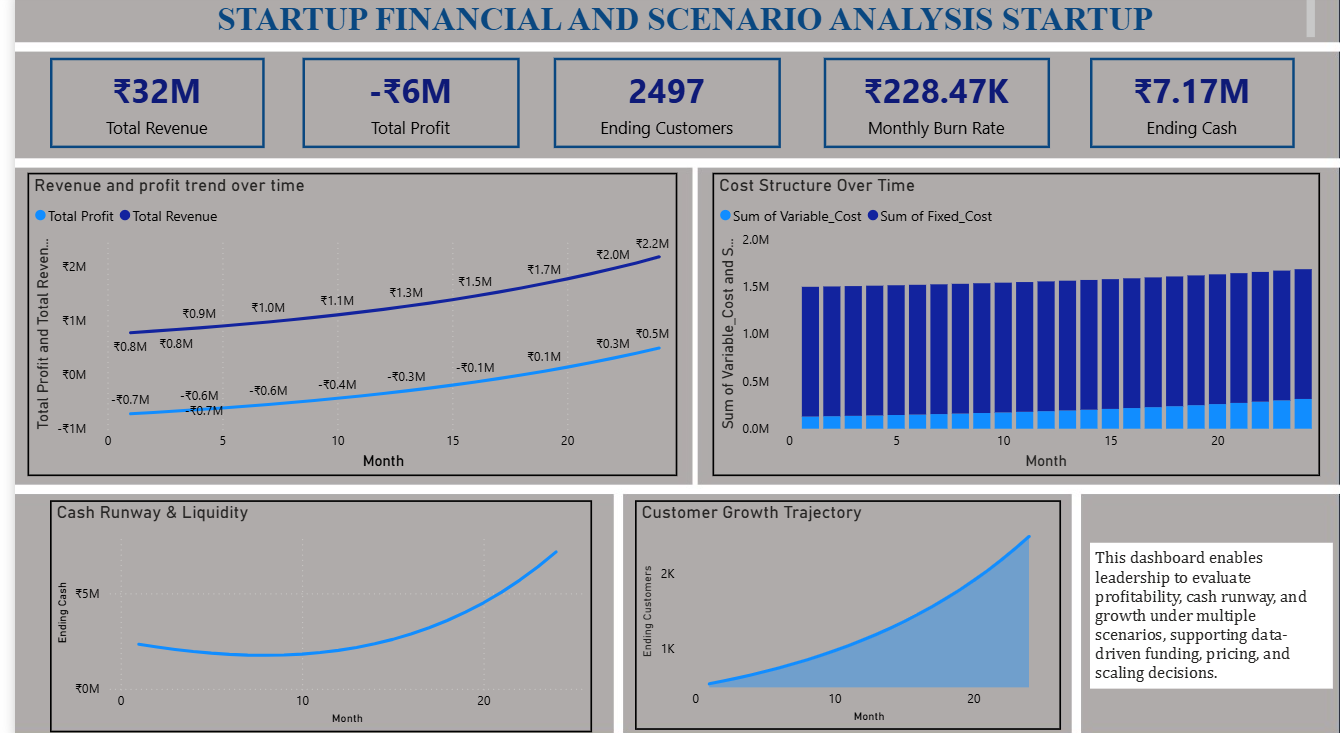

This screenshot's page, from the dashboard's own definition file:
{"tool":"powerbi","page":{"name":"Page 1","canvas":[1280,720],"ordinal":0},"visuals":[{"type":"card","fields":{"Values":["Finance.Total Revenue"]},"box":[33.8,61.5,207.5,86.9],"z":0},{"type":"card","fields":{"Values":["Finance.Total Profit"]},"box":[277.5,61.5,209.9,86.9],"z":1},{"type":"card","fields":{"Values":["Finance.Ending Customers"]},"box":[520,61.5,219.6,86.9],"z":2},{"type":"card","fields":{"Values":["Finance.Monthly Burn Rate"]},"box":[780.6,61.5,218.4,86.9],"z":3},{"type":"card","fields":{"Values":["Finance.Ending Cash"]},"box":[1037.5,61.5,197.9,86.9],"z":4},{"type":"lineChart","title":"Revenue and profit trend over time ","fields":{"Category":["Finance.Month"],"Y":["Finance.Total Profit","Finance.Total Revenue"]},"box":[12.1,172.5,627.3,293.2],"z":5},{"type":"lineChart","title":"Cash Runway & Liquidity","fields":{"Category":["Finance.Month"],"Y":["Finance.Ending Cash"]},"box":[33.8,488.6,523.6,224.4],"z":6},{"type":"areaChart","title":"Customer Growth Trajectory","fields":{"Category":["Finance.Month"],"Y":["Finance.Ending Customers"]},"box":[598.4,488.6,411.4,222],"z":7},{"type":"columnChart","title":"Cost Structure Over Time","fields":{"Category":["Finance.Month"],"Y":["Sum(Finance.Variable_Cost)","Sum(Finance.Fixed_Cost)"]},"box":[673.2,172.5,586.3,293.2],"z":8},{"type":"textbox","box":[54.3,0,1225.7,47.1],"z":9},{"type":"textbox","box":[1037.5,529.6,234,141.2],"z":10}]}

Visuals, with their boxes in screenshot pixels (x1, y1, x2, y2), scaled from the page's 1280x720 canvas onto the 1340x733 screenshot:
card - Finance.Total Revenue: Rect(35, 63, 253, 151)
card - Finance.Total Profit: Rect(291, 63, 510, 151)
card - Finance.Ending Customers: Rect(544, 63, 774, 151)
card - Finance.Monthly Burn Rate: Rect(817, 63, 1046, 151)
card - Finance.Ending Cash: Rect(1086, 63, 1293, 151)
"Revenue and profit trend over time " lineChart: Rect(13, 176, 669, 474)
"Cash Runway & Liquidity" lineChart: Rect(35, 497, 584, 726)
"Customer Growth Trajectory" areaChart: Rect(626, 497, 1057, 723)
"Cost Structure Over Time" columnChart: Rect(705, 176, 1319, 474)
textbox: Rect(57, 0, 1339, 48)
textbox: Rect(1086, 539, 1331, 683)
